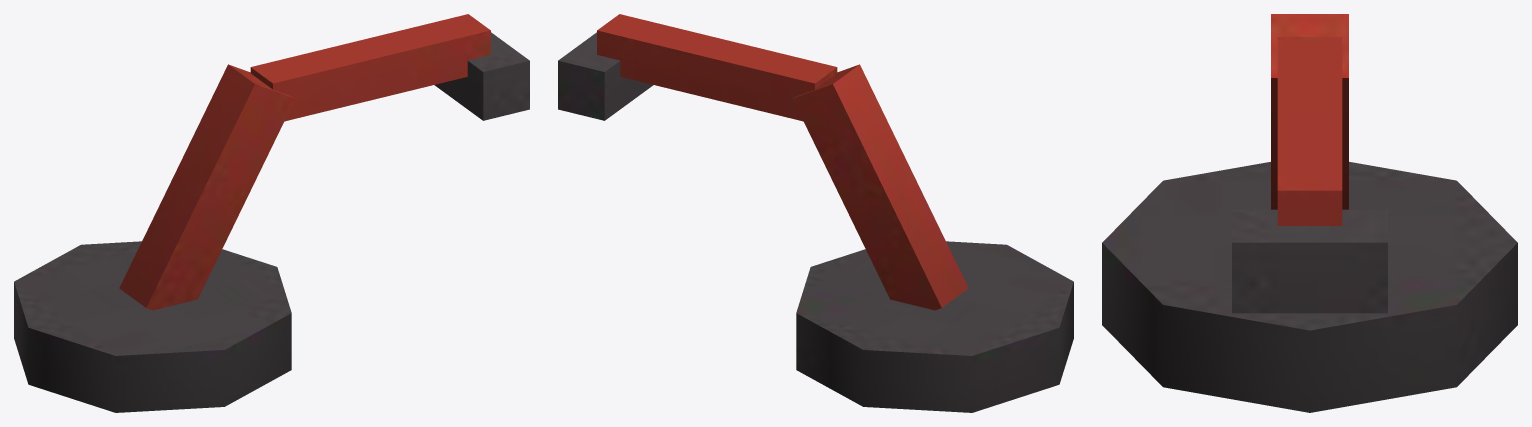
The model's file is long-handed-inserter.glb.
The picture shows the model from 3 angles, left to right: view 1: azimuth 30°, elevation 25°; view 2: azimuth 150°, elevation 25°; view 3: azimuth 270°, elevation 25°; orthographic projection. The views are drawn at different scales.
Parts seen in each view (by area): view 1: long-handed-inserter; view 2: long-handed-inserter; view 3: long-handed-inserter.
Part boxes in pixels (<box>): long-handed-inserter: <box>14,14,529,412</box>; long-handed-inserter: <box>558,14,1073,412</box>; long-handed-inserter: <box>1102,14,1517,412</box>.
Bounding box in the file's own units: 0.305 × 0.1587 × 0.16.
1 material, 1 textured.
